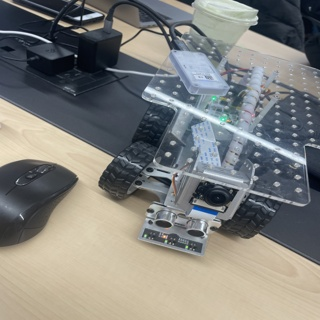vehicle: (98, 32, 319, 255)
